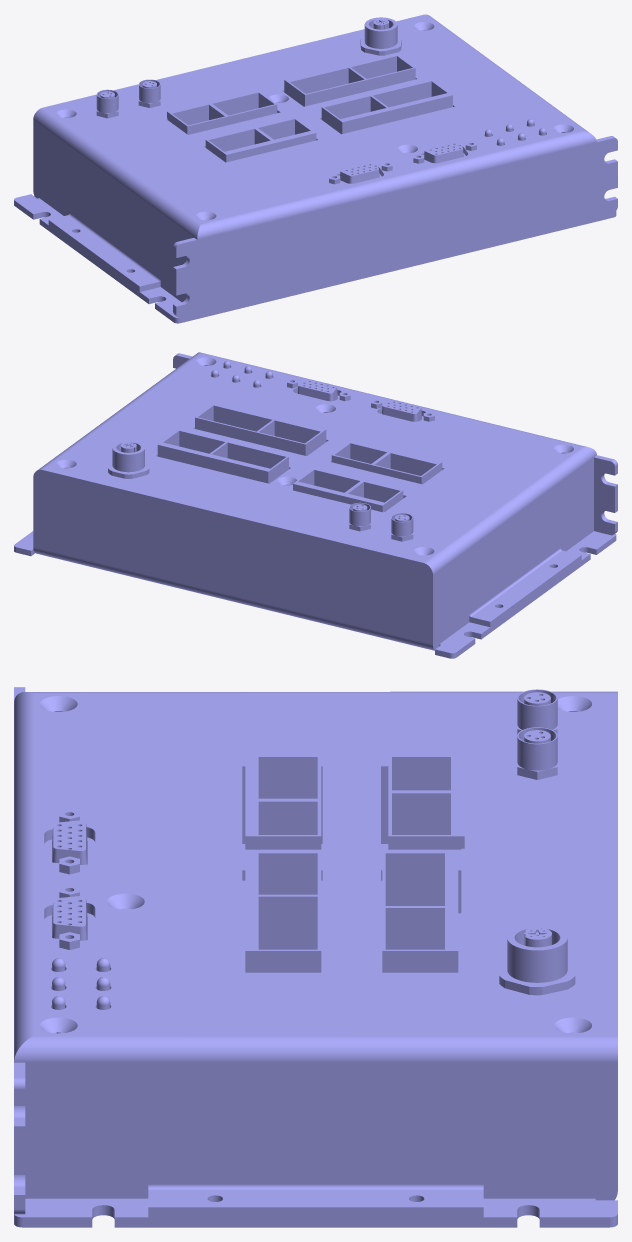
File: 8轴控制器.glb
3 renders of one model, top to bottom at view 1: azimuth 30°, elevation 25°; view 2: azimuth 150°, elevation 25°; view 3: azimuth 270°, elevation 25°, orthographic. The views are drawn at different scales.
Visible parts, largest first — view 1: COMPOUND001, COMPOUND, COMPOUND002, COMPOUND003, COMPOUND005, COMPOUND004, COMPOUND009, COMPOUND011, COMPOUND012, COMPOUND006, COMPOUND007; view 2: COMPOUND001, COMPOUND, COMPOUND003, COMPOUND002, COMPOUND004, COMPOUND005, COMPOUND009, COMPOUND011, COMPOUND012, COMPOUND006, COMPOUND007; view 3: COMPOUND001, COMPOUND, COMPOUND002, COMPOUND003, COMPOUND005, COMPOUND004, COMPOUND009, COMPOUND011, COMPOUND012, COMPOUND007, COMPOUND006.
Boxes of the visible parts, x1=… form: COMPOUND001: x1=34, y1=14, x2=617, y2=317; COMPOUND: x1=14, y1=30, x2=616, y2=323; COMPOUND002: x1=321, y1=80, x2=452, y2=152; COMPOUND003: x1=284, y1=53, x2=415, y2=106; COMPOUND005: x1=167, y1=89, x2=277, y2=134; COMPOUND004: x1=205, y1=118, x2=316, y2=162; COMPOUND009: x1=360, y1=17, x2=401, y2=55; COMPOUND011: x1=413, y1=141, x2=476, y2=163; COMPOUND012: x1=329, y1=161, x2=392, y2=184; COMPOUND006: x1=96, y1=89, x2=118, y2=118; COMPOUND007: x1=138, y1=79, x2=160, y2=107; COMPOUND001: x1=34, y1=352, x2=617, y2=645; COMPOUND: x1=14, y1=473, x2=616, y2=658; COMPOUND003: x1=157, y1=429, x2=288, y2=485; COMPOUND002: x1=195, y1=402, x2=326, y2=485; COMPOUND004: x1=331, y1=440, x2=442, y2=484; COMPOUND005: x1=293, y1=468, x2=403, y2=512; COMPOUND009: x1=108, y1=440, x2=149, y2=478; COMPOUND011: x1=287, y1=378, x2=350, y2=412; COMPOUND012: x1=371, y1=399, x2=434, y2=421; COMPOUND006: x1=391, y1=513, x2=413, y2=541; COMPOUND007: x1=349, y1=502, x2=370, y2=531; COMPOUND001: x1=14, y1=687, x2=617, y2=1217; COMPOUND: x1=14, y1=844, x2=617, y2=1227; COMPOUND002: x1=245, y1=851, x2=321, y2=972; COMPOUND003: x1=382, y1=851, x2=458, y2=972; COMPOUND005: x1=388, y1=755, x2=464, y2=913; COMPOUND004: x1=245, y1=755, x2=321, y2=849; COMPOUND009: x1=499, y1=925, x2=575, y2=995; COMPOUND011: x1=44, y1=884, x2=95, y2=949; COMPOUND012: x1=44, y1=809, x2=95, y2=874; COMPOUND007: x1=517, y1=727, x2=557, y2=779; COMPOUND006: x1=517, y1=689, x2=557, y2=734.
Size of the model in its own units: 0.21 by 0.0515 by 0.135.
